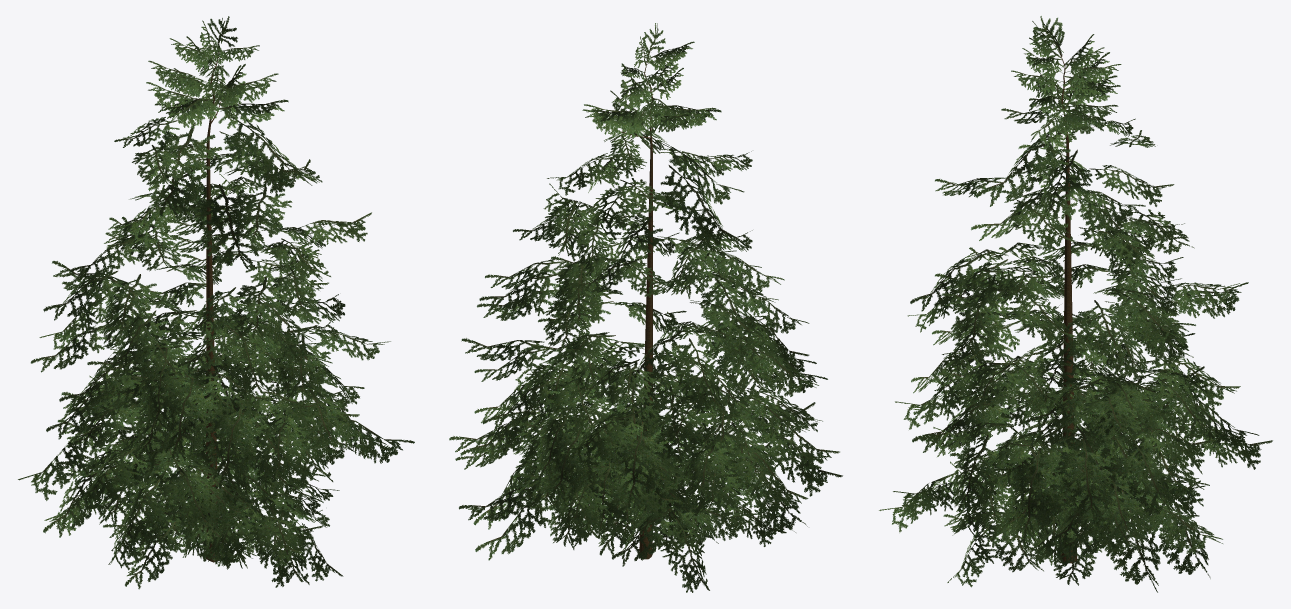
Rendered from baum_fichte_6_lod1.glb.
3 views of the same model, side by side, from view 1: azimuth 30°, elevation 25°; view 2: azimuth 150°, elevation 25°; view 3: azimuth 270°, elevation 25° (orthographic). The views are drawn at different scales.
Parts seen in each view (by area): view 1: Krone, Stamm; view 2: Krone, Stamm; view 3: Krone, Stamm.
Boxes of the visible parts, x1,y1,x2,y2 form: Krone: [18, 16, 414, 589]; Stamm: [113, 47, 221, 562]; Krone: [449, 23, 842, 592]; Stamm: [620, 63, 676, 559]; Krone: [879, 16, 1272, 592]; Stamm: [1060, 53, 1094, 563].
Bounding box in the file's own units: 9.59 × 14.06 × 9.33.
2 materials, 2 textured.
